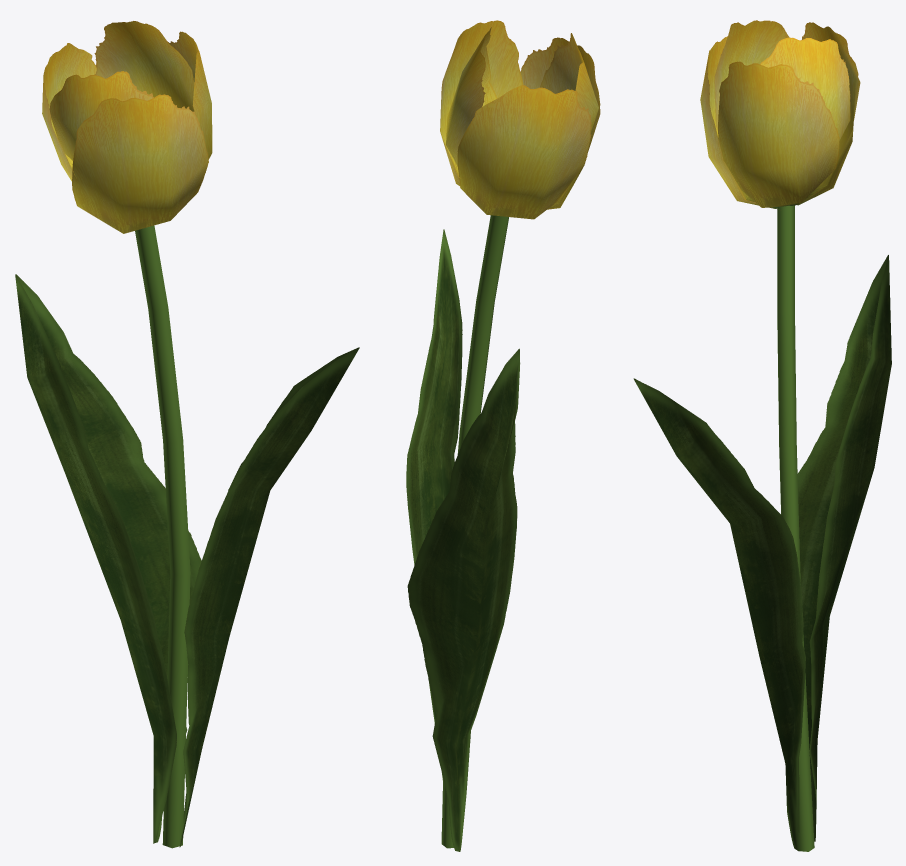
File: uploads_files_1916312_tulips_alutaroma_free.fbx
The picture shows the model from 3 angles, left to right: view 1: azimuth 30°, elevation 25°; view 2: azimuth 150°, elevation 25°; view 3: azimuth 270°, elevation 25°; orthographic projection. The views are drawn at different scales.
Parts seen in each view (by area): view 1: tulip_alutaroma_02; view 2: tulip_alutaroma_02; view 3: tulip_alutaroma_02.
Part boxes in pixels (x1=…): tulip_alutaroma_02: x1=15, y1=21, x2=359, y2=848; tulip_alutaroma_02: x1=406, y1=20, x2=600, y2=851; tulip_alutaroma_02: x1=633, y1=20, x2=891, y2=851.
Bounding box in the file's own units: 3.53 × 12.1 × 3.58.
Materials: 2 (2 with a texture image).
